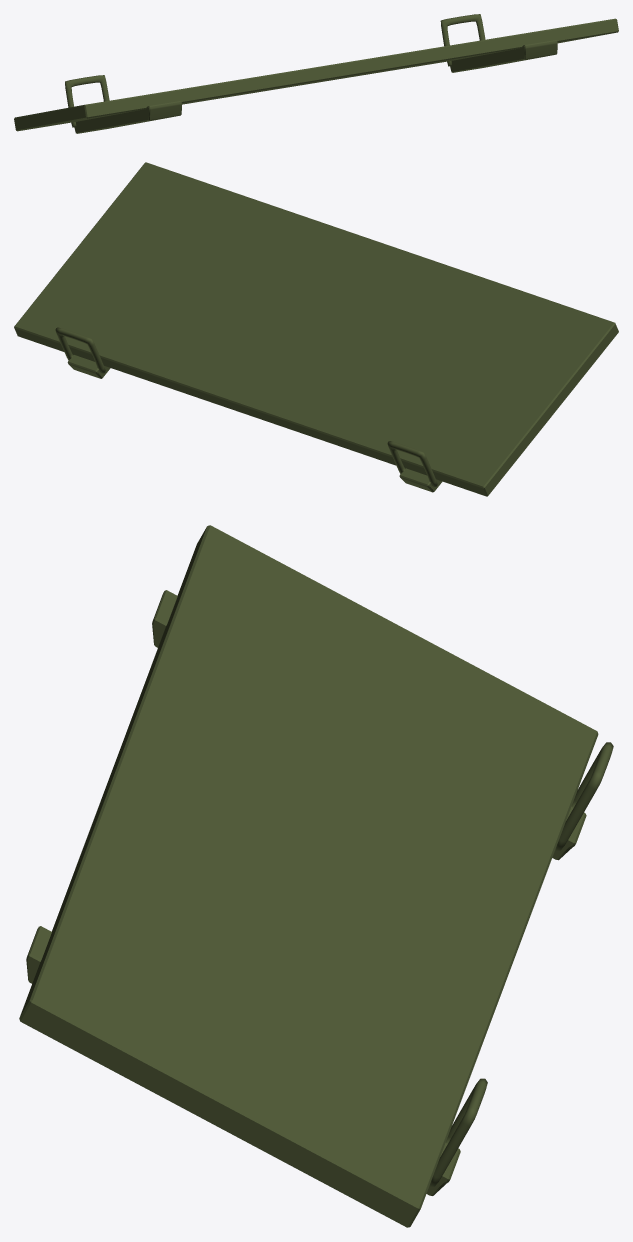
File: caixa_5_tampa.glb
3 views of the same model, one above another, from view 1: azimuth 30°, elevation 25°; view 2: azimuth 150°, elevation 25°; view 3: azimuth 270°, elevation 25° (orthographic). The views are drawn at different scales.
Visible parts, largest first — view 1: SM_WeaponCrate_05_L; view 2: SM_WeaponCrate_05_L; view 3: SM_WeaponCrate_05_L.
Part boxes in pixels (bbox=[...]): SM_WeaponCrate_05_L: bbox=[14, 14, 618, 133]; SM_WeaponCrate_05_L: bbox=[14, 162, 618, 496]; SM_WeaponCrate_05_L: bbox=[19, 525, 613, 1227].
Bounding box in the file's own units: 1.52 × 0.3221 × 0.7603.
